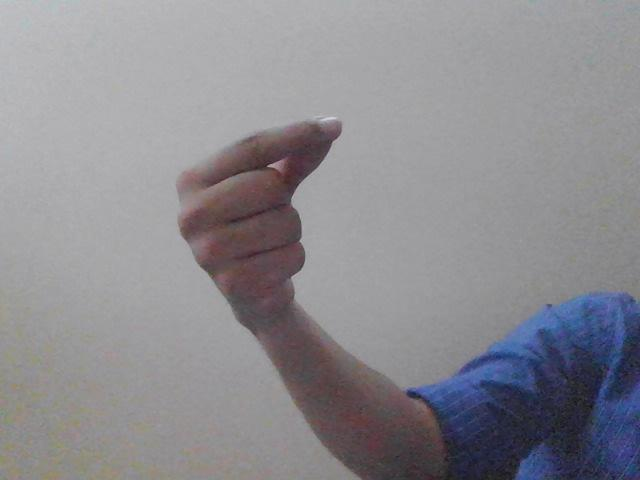G: (163, 113, 361, 325)
